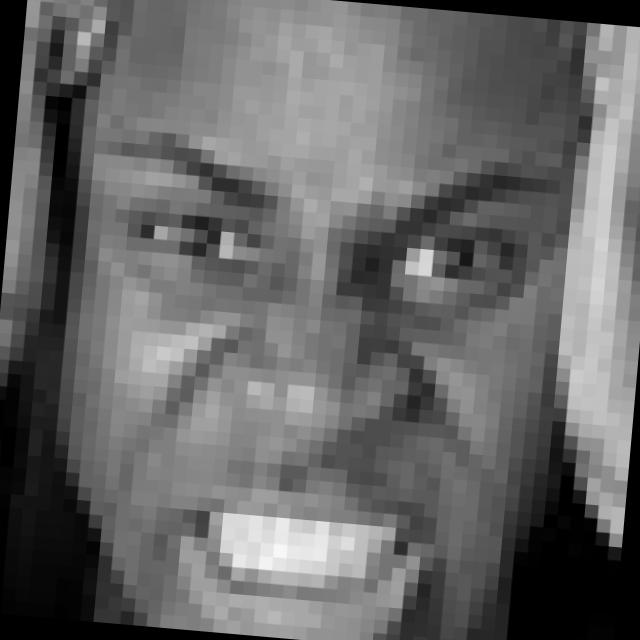angry: (54, 127, 547, 640)
